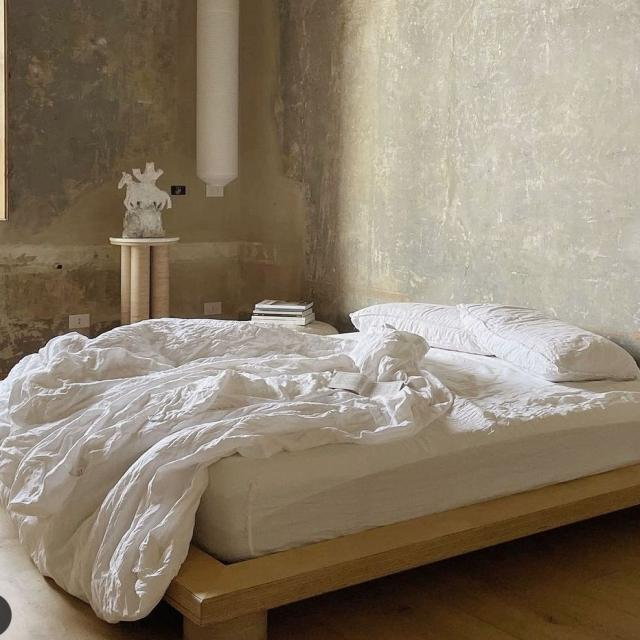bed: (2, 299, 640, 640)
